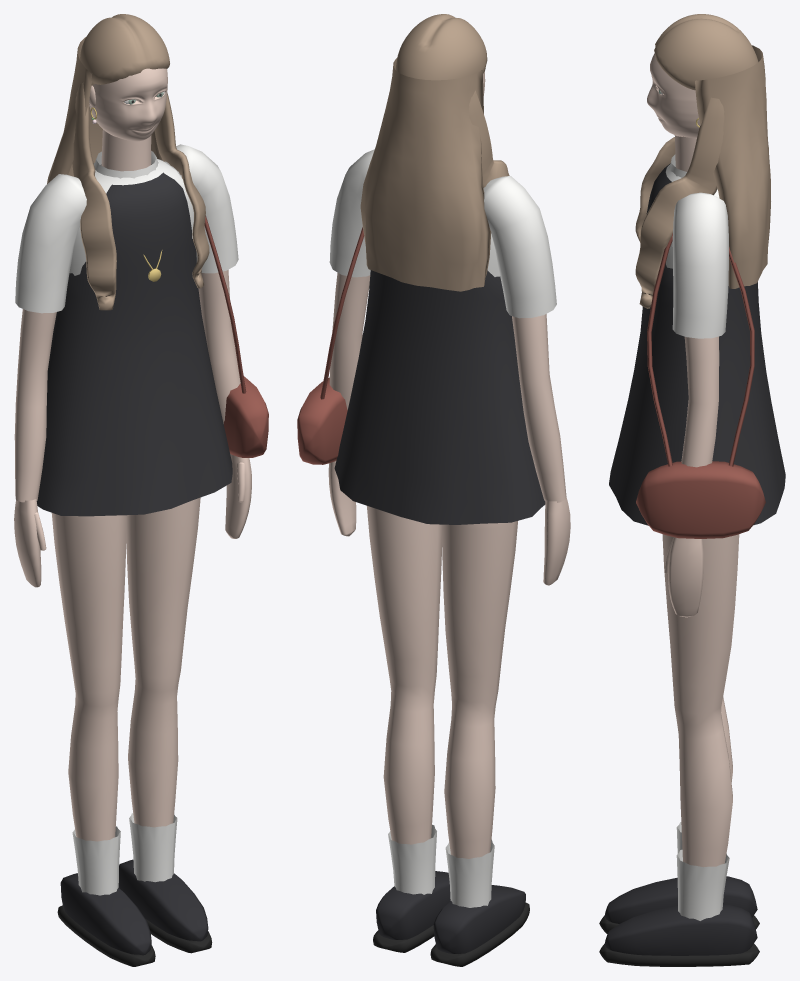
The model's file is alice_v2_robe_noire.glb.
3 views of the same model, side by side, from view 1: azimuth 30°, elevation 25°; view 2: azimuth 150°, elevation 25°; view 3: azimuth 270°, elevation 25° (orthographic). The views are drawn at different scales.
Visible parts, largest first — view 1: dress, leg_R, leg_L, sleeve_R, arm_R, hair_front_R, hair_cap, head, loafer_R, loafer_L, sleeve_L, arm_L (+13 smaller); view 2: dress, hair_back, leg_R, leg_L, sleeve_R, arm_R, hair_cap, loafer_R, arm_L, sleeve_L, bag, loafer_L (+8 smaller); view 3: dress, leg_L, hair_back, bag, sleeve_L, loafer_L, hair_front_L, hair_cap, arm_L, loafer_R, sock_L, head (+5 smaller).
Part boxes in pixels (x1,y1,x2,y2): dress: (36, 164, 232, 516); leg_R: (51, 513, 126, 841); leg_L: (126, 497, 200, 827); sleeve_R: (15, 174, 86, 313); arm_R: (14, 309, 56, 502); hair_front_R: (72, 82, 116, 310); hair_cap: (80, 14, 169, 112); head: (89, 68, 167, 141); loafer_R: (60, 873, 151, 955); loafer_L: (118, 859, 208, 941); sleeve_L: (162, 144, 238, 273); arm_L: (198, 269, 240, 423); dress: (334, 270, 545, 524); hair_back: (360, 58, 491, 291); leg_R: (442, 521, 517, 858); leg_L: (367, 506, 442, 844); sleeve_R: (483, 176, 556, 318); arm_R: (512, 314, 566, 502); hair_cap: (395, 14, 487, 80); loafer_R: (433, 885, 525, 953); arm_L: (329, 272, 370, 409); sleeve_L: (329, 149, 374, 277); bag: (297, 377, 347, 464); loafer_L: (376, 871, 450, 939); dress: (609, 163, 785, 525); leg_L: (662, 534, 739, 867); hair_back: (695, 45, 770, 288); bag: (636, 461, 765, 538); sleeve_L: (672, 192, 728, 338); loafer_L: (604, 904, 757, 955); hair_front_L: (635, 97, 724, 308); hair_cap: (654, 14, 758, 90); arm_L: (681, 336, 719, 467); loafer_R: (604, 876, 757, 923); sock_L: (676, 849, 729, 920); head: (647, 53, 700, 137).
Bounding box in the file's own units: 0.4802 × 1.74 × 0.3184.
